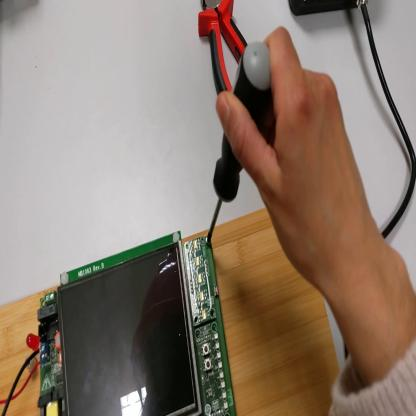hand: (215, 30, 373, 289)
low voltage board: (1, 231, 237, 416)
pliers: (199, 1, 250, 96)
screwdriver-: (207, 41, 272, 242)
welder station: (290, 1, 368, 16)
working area: (2, 207, 340, 415)
